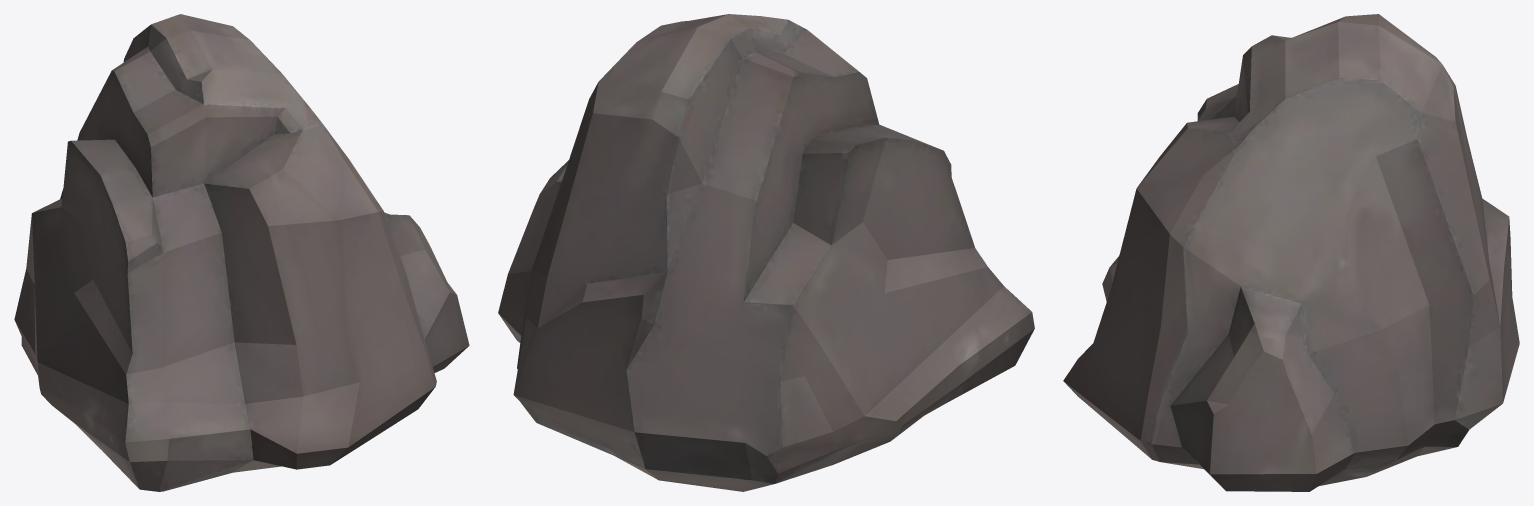
3 renders of one model, left to right at view 1: azimuth 30°, elevation 25°; view 2: azimuth 150°, elevation 25°; view 3: azimuth 270°, elevation 25°, orthographic. The views are drawn at different scales.
Parts seen in each view (by area): view 1: body0_model0_lod0_mesh0; view 2: body0_model0_lod0_mesh0; view 3: body0_model0_lod0_mesh0.
Part boxes in pixels (x1,y1,x2,y2): body0_model0_lod0_mesh0: (14,14,469,491); body0_model0_lod0_mesh0: (498,14,1034,491); body0_model0_lod0_mesh0: (1063,14,1519,491).
Size of the model in its own units: 223 by 209 by 218.
Materials: 1 (1 with a texture image).
